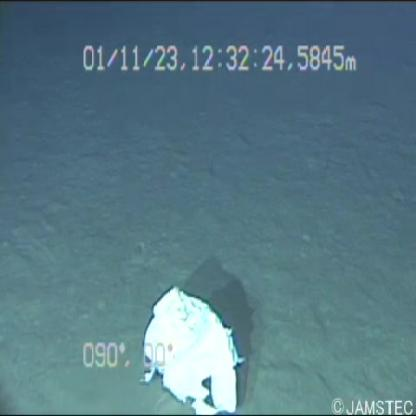Rác: (131, 278, 252, 416)
